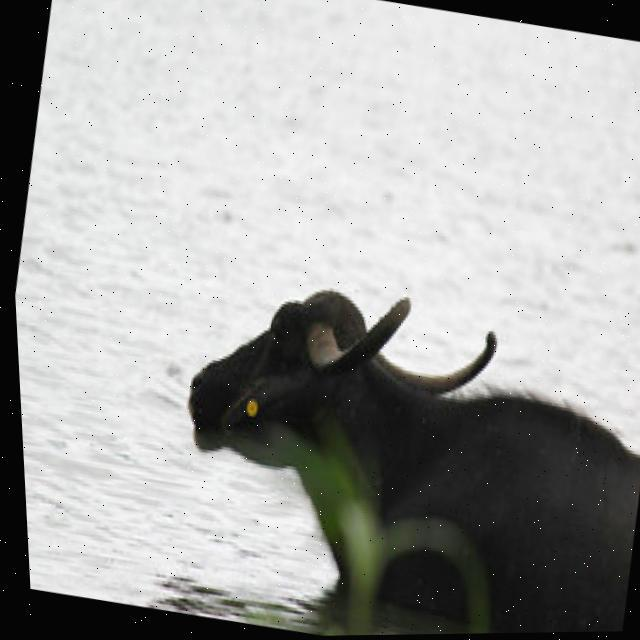Buffalo: (141, 252, 640, 638)
